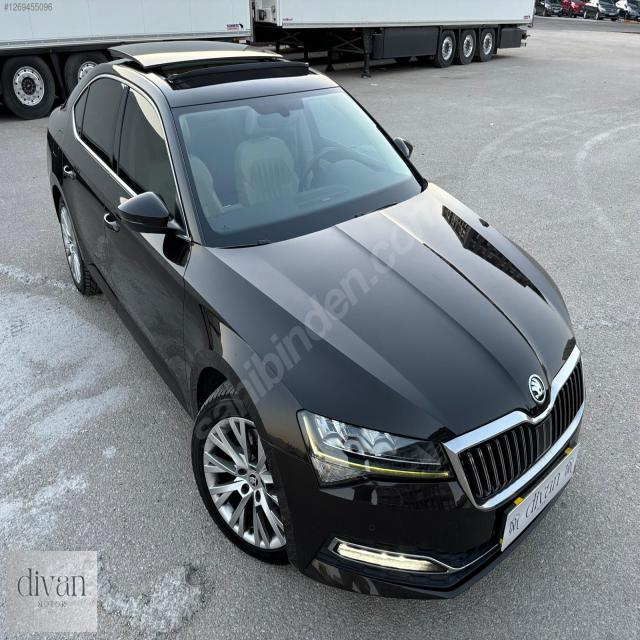skoda: (524, 375, 546, 402)
